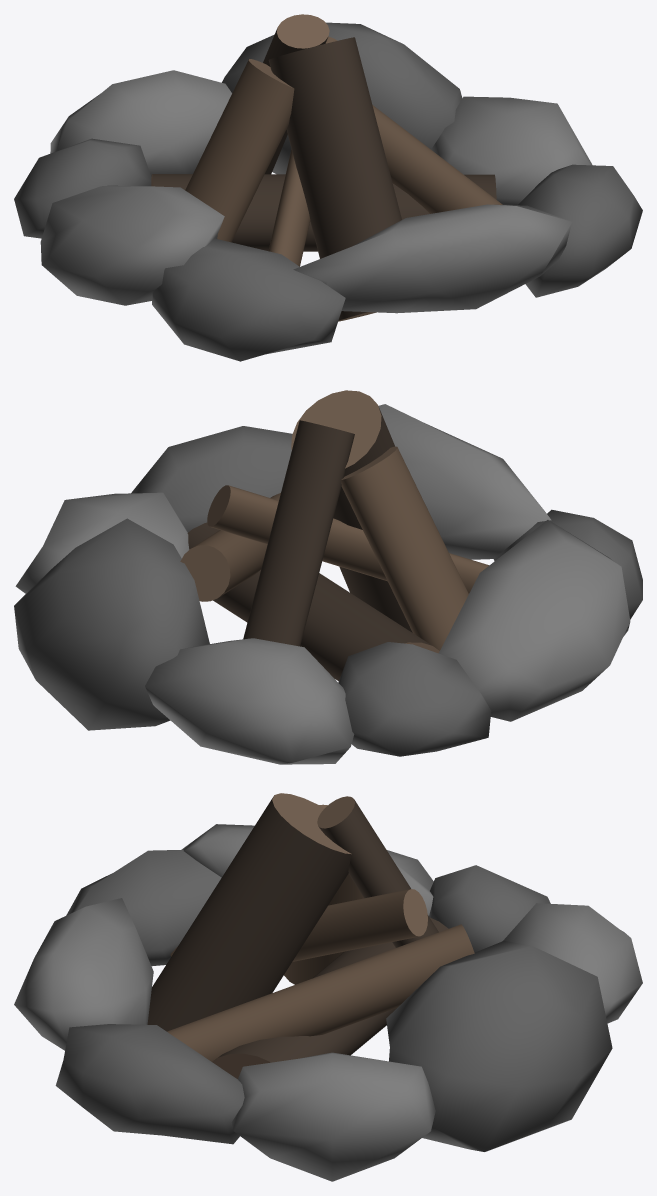
File: checkpoint.fbx
3 views of the same model, one above another, from view 1: azimuth 30°, elevation 25°; view 2: azimuth 150°, elevation 25°; view 3: azimuth 270°, elevation 25° (orthographic). The views are drawn at different scales.
Visible parts, largest first — view 1: pCube3, pCylinder1, pCube2, pCube5, pCube6, pCube8, pCylinder3, pCube1, pCube7, pCube4, pCylinder5, pCylinder4 (+2 smaller); view 2: pCube7, pCube5, pCube6, pCube4, pCylinder2, pCube3, pCylinder3, pCube1, pCylinder4, pCube8, pCylinder1, pCylinder6 (+2 smaller); view 3: pCube7, pCylinder1, pCube8, pCube1, pCylinder5, pCube3, pCube2, pCube6, pCube4, pCylinder6, pCylinder4, pCylinder2 (+2 smaller).
Boxes of the visible parts, left/top/right/bottom form: pCube3: left=293, top=204, right=572, bottom=313; pCylinder1: left=268, top=37, right=401, bottom=321; pCube2: left=152, top=238, right=345, bottom=361; pCube5: left=40, top=185, right=224, bottom=305; pCube6: left=50, top=70, right=231, bottom=176; pCube8: left=431, top=96, right=592, bottom=205; pCylinder3: left=185, top=59, right=294, bottom=242; pCube1: left=518, top=164, right=642, bottom=297; pCube7: left=222, top=22, right=462, bottom=174; pCube4: left=14, top=138, right=151, bottom=238; pCylinder5: left=372, top=105, right=502, bottom=213; pCylinder4: left=151, top=174, right=496, bottom=251; pCube7: left=14, top=518, right=209, bottom=730; pCube5: left=438, top=520, right=630, bottom=721; pCube6: left=145, top=638, right=354, bottom=764; pCube4: left=338, top=642, right=491, bottom=756; pCylinder2: left=243, top=420, right=354, bottom=646; pCube3: left=378, top=404, right=551, bottom=559; pCylinder3: left=341, top=446, right=468, bottom=650; pCube1: left=131, top=426, right=292, bottom=532; pCylinder4: left=187, top=522, right=439, bottom=681; pCube8: left=15, top=492, right=189, bottom=593; pCylinder1: left=291, top=390, right=412, bottom=632; pCylinder6: left=207, top=485, right=488, bottom=593; pCube7: left=386, top=941, right=612, bottom=1151; pCylinder1: left=147, top=793, right=351, bottom=1031; pCube8: left=231, top=1052, right=435, bottom=1181; pCube1: left=55, top=1024, right=244, bottom=1144; pCylinder5: left=167, top=924, right=474, bottom=1061; pCube3: left=14, top=898, right=153, bottom=1050; pCube2: left=66, top=849, right=221, bottom=966; pCube6: left=503, top=903, right=642, bottom=1023; pCube4: left=429, top=865, right=550, bottom=952; pCylinder6: left=170, top=889, right=427, bottom=961; pCylinder4: left=212, top=917, right=448, bottom=1079; pCylinder2: left=317, top=796, right=438, bottom=947.
Bounding box in the file's own units: 4.5 × 2.07 × 4.36.
